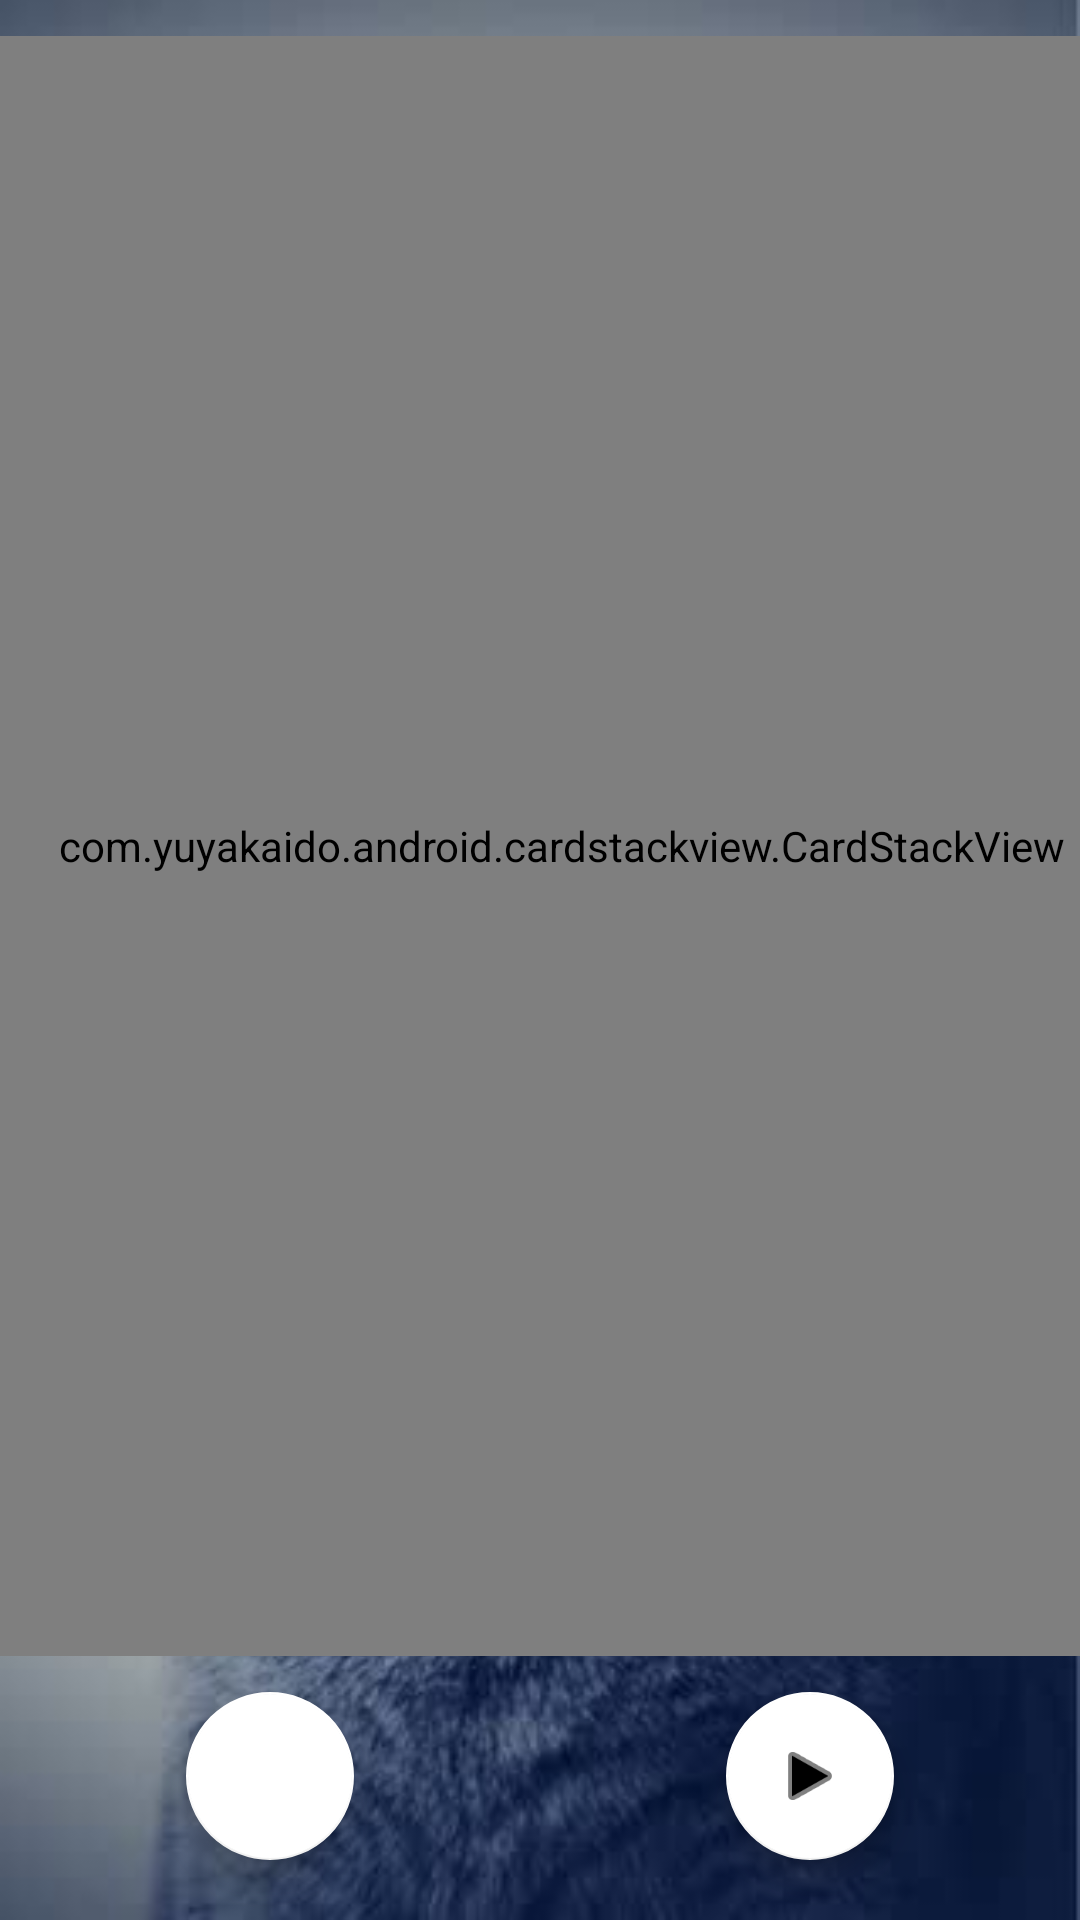

Named icons in this screenshot (1080×1920) and their bounding boxes, (x1, y1, x2, y2):
play: (726, 1692, 894, 1860)
